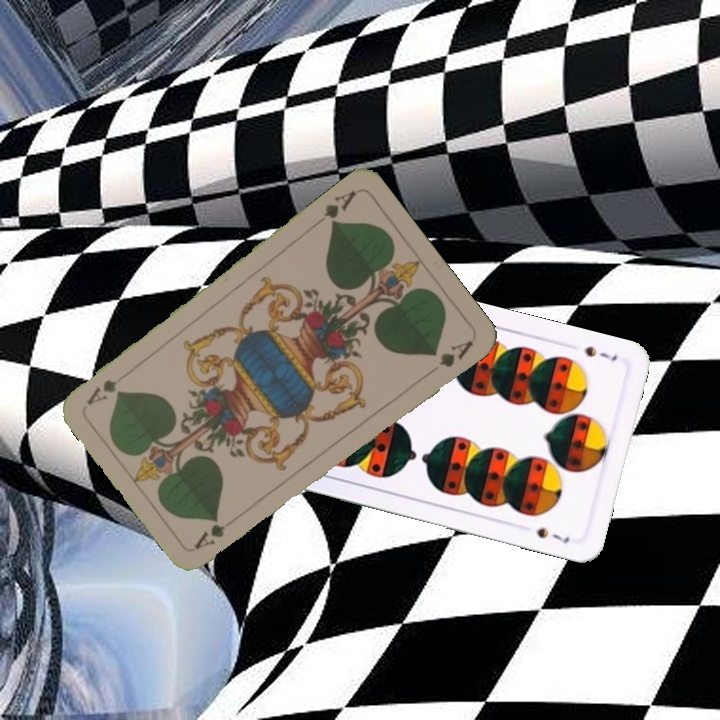GA: (190, 511, 241, 552), (319, 186, 359, 230)
S7: (581, 342, 620, 364)
